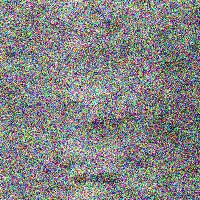rolled-in_scale: (63, 96, 132, 190), (43, 147, 154, 187), (90, 7, 144, 52)
